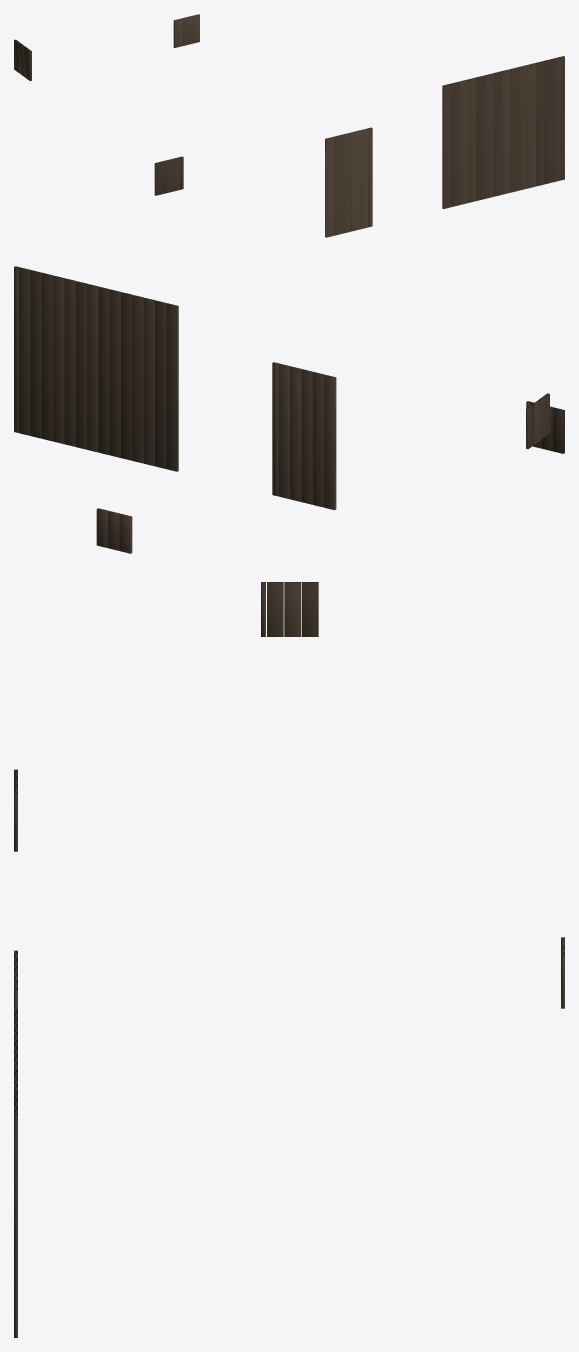
Rendered from SM_BarnWood_13.glb.
The picture shows the model from 3 angles, top to bottom: view 1: azimuth 30°, elevation 25°; view 2: azimuth 150°, elevation 25°; view 3: azimuth 270°, elevation 25°; orthographic projection. The views are drawn at different scales.
Visible parts, largest first — view 1: SM_BarnWood_13; view 2: SM_BarnWood_13; view 3: SM_BarnWood_13.
Part boxes in pixels (<box>): SM_BarnWood_13: <box>14,14,564,237</box>; SM_BarnWood_13: <box>14,266,564,553</box>; SM_BarnWood_13: <box>14,582,564,1337</box>.
Size of the model in its own units: 9.94 by 3.9 by 5.64.
